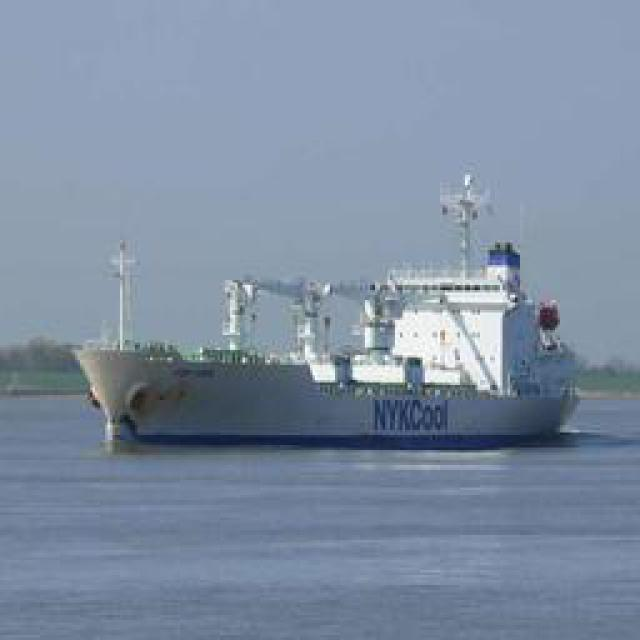Ship: (64, 168, 584, 446)
